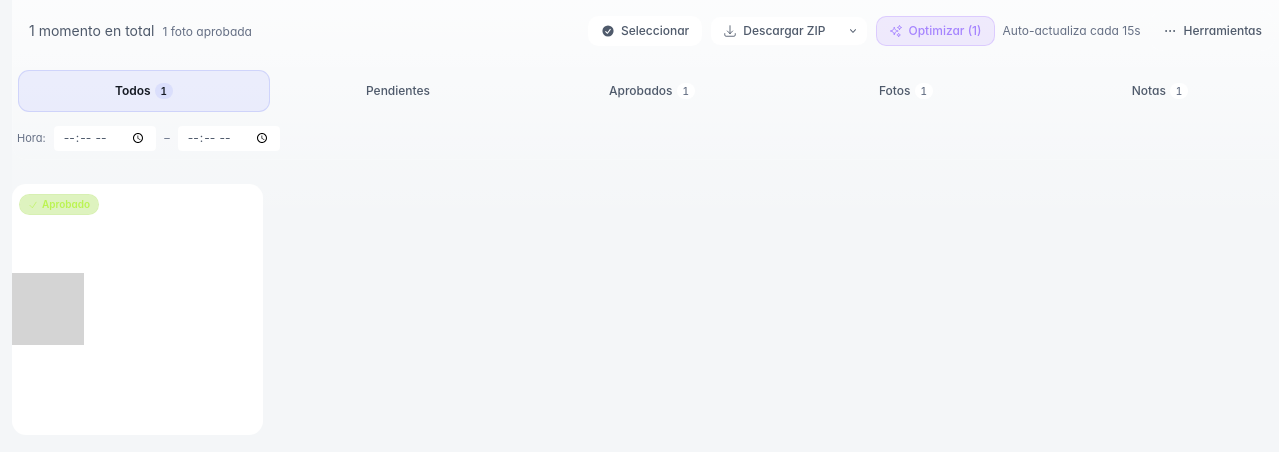
MomentsWall — empty state › shows pending-specific empty state when pending filter active
The width and height of the screenshot is (1279, 452).
# Tab name includes count: "Pendientes 0" or just "Pendientes"
Click the button "Pendientes": (398, 91) [273,71,523,111]
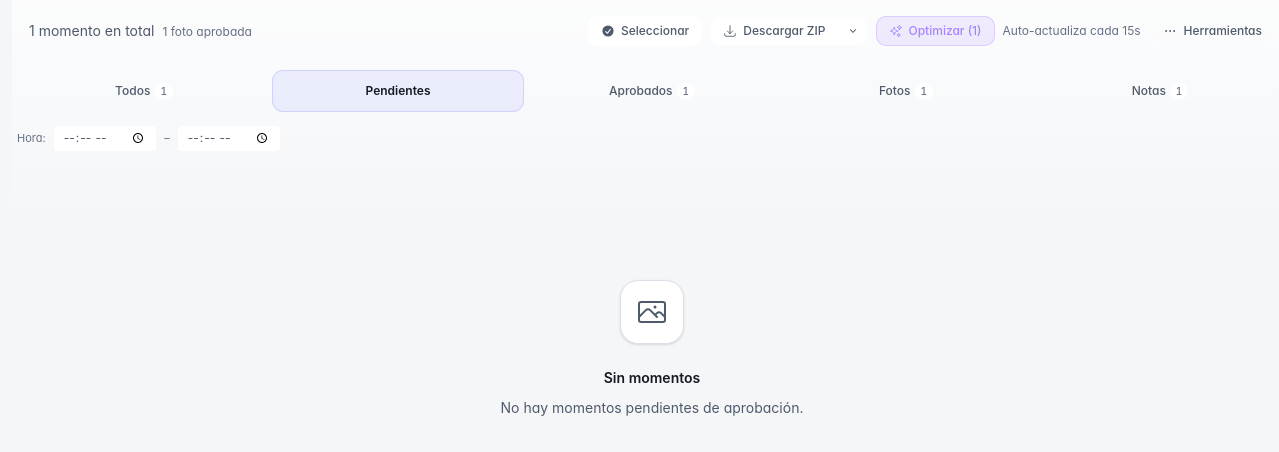
Now the text "No hay momentos pendientes de aprobación." is shown, box [501,396,804,420]
